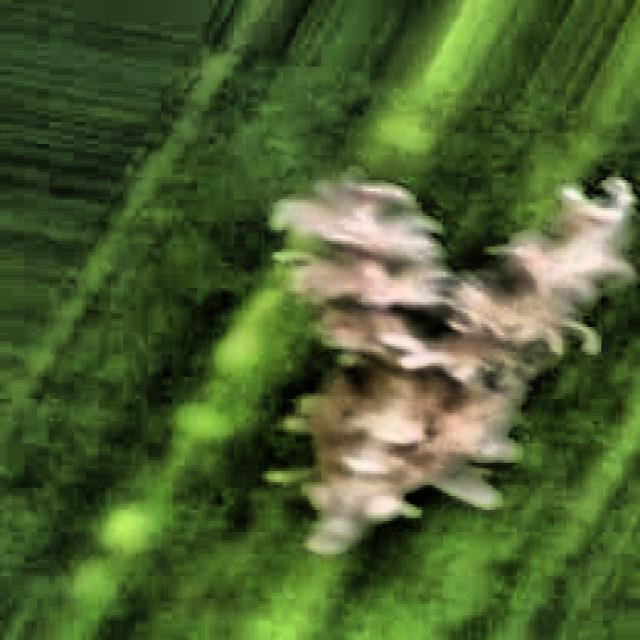Pyrilla-perpusilla: (260, 88, 637, 591)
